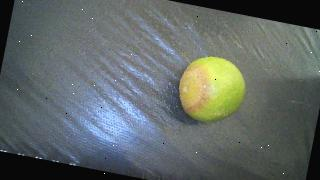DESECHO: (173, 51, 251, 128)
